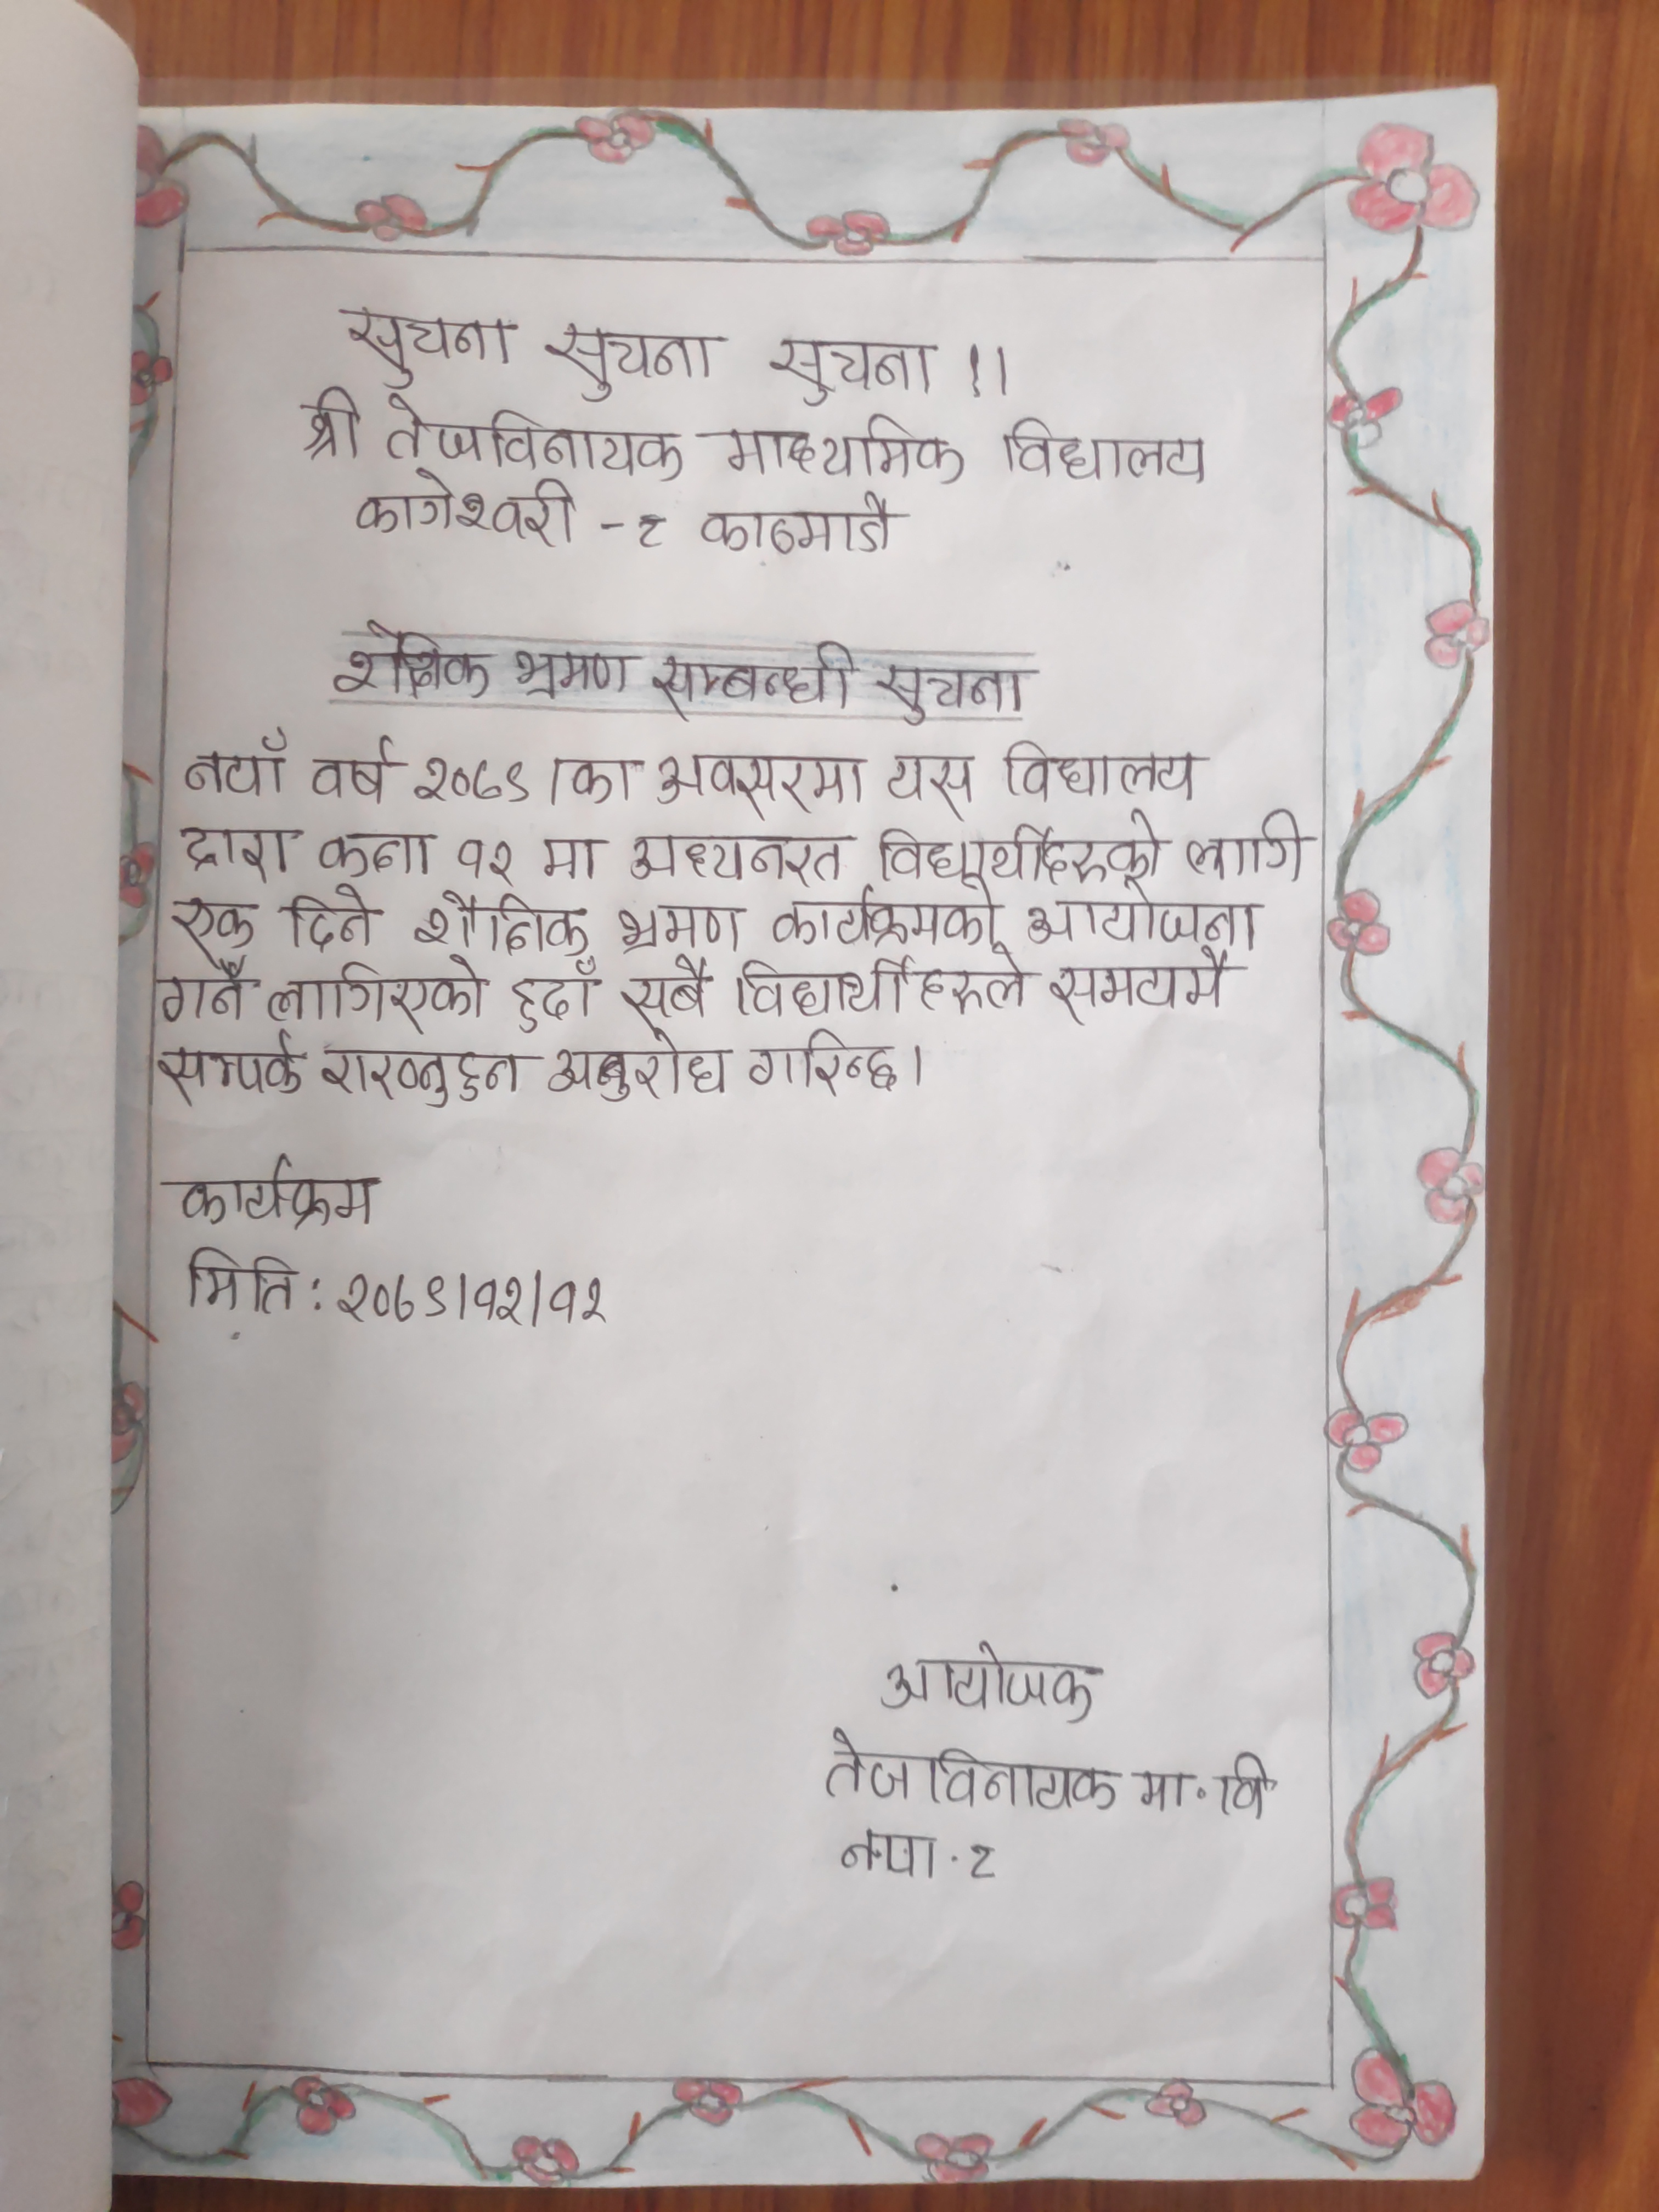text: (819, 1726, 1121, 1817), (378, 392, 683, 479), (725, 951, 1037, 1019), (871, 817, 1175, 878), (647, 637, 859, 723), (716, 415, 976, 482), (350, 469, 577, 545), (878, 1641, 1100, 1719), (167, 1153, 382, 1233), (312, 1040, 535, 1116), (335, 1271, 612, 1332), (261, 956, 498, 1026), (765, 881, 1000, 951), (1021, 881, 1265, 946), (540, 324, 725, 406), (1049, 949, 1239, 1028), (1000, 415, 1213, 482), (338, 307, 518, 385), (406, 883, 591, 958), (619, 831, 852, 890), (547, 1029, 737, 1101), (697, 489, 896, 554), (655, 749, 870, 808), (769, 334, 936, 406), (150, 1028, 308, 1103), (746, 1028, 903, 1101), (333, 632, 491, 704), (1002, 742, 1197, 799), (173, 1240, 303, 1318), (1129, 1750, 1276, 1820), (875, 662, 1037, 723), (1183, 810, 1317, 880), (174, 819, 296, 883), (612, 956, 716, 1028), (615, 900, 749, 954), (408, 747, 530, 806), (150, 958, 254, 1026), (512, 646, 634, 704), (282, 878, 378, 951), (286, 380, 371, 462), (312, 826, 436, 881), (181, 733, 291, 796), (884, 747, 976, 819), (305, 733, 403, 799), (502, 972, 601, 1036), (171, 892, 258, 958), (836, 1829, 941, 1883), (537, 824, 606, 885), (566, 758, 636, 808), (457, 826, 518, 883)
